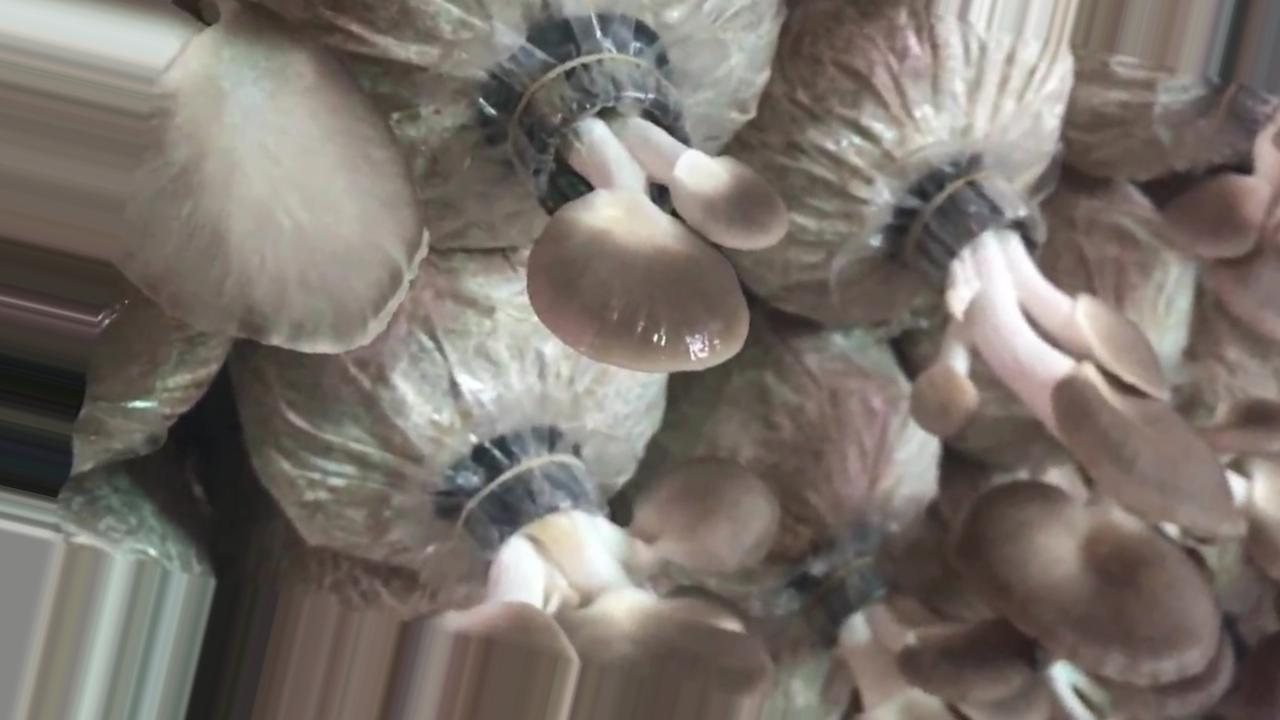nam: (893, 167, 1252, 538), (382, 456, 773, 720), (513, 45, 789, 382), (950, 480, 1224, 687)
